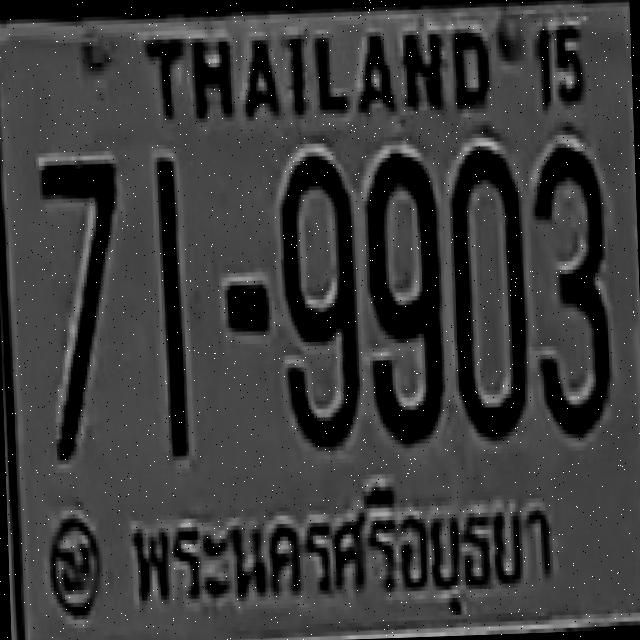0: (277, 150, 359, 452), (447, 144, 529, 438)
1: (155, 154, 187, 450)
3: (530, 144, 612, 436)
7: (36, 158, 125, 464), (37, 158, 121, 364)
9: (278, 153, 362, 450), (362, 148, 444, 444)
Ayutthaya: (122, 466, 566, 632)
